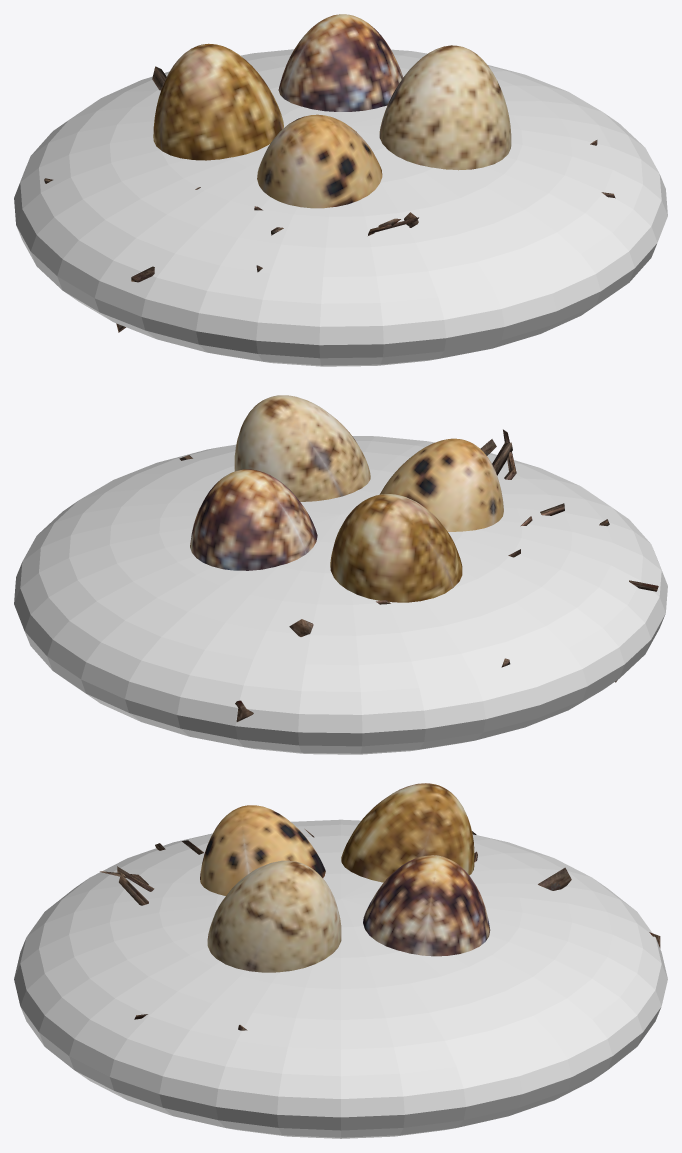
File: EggNest.gltf
The picture shows the model from 3 angles, top to bottom: view 1: azimuth 30°, elevation 25°; view 2: azimuth 150°, elevation 25°; view 3: azimuth 270°, elevation 25°; orthographic projection.
Parts seen in each view (by area): view 1: COL, Eggs, barn.034; view 2: COL, Eggs, barn.034; view 3: COL, Eggs, barn.034.
Boxes of the visible parts, x1,y1,x2,y2 form: COL: (14, 49, 667, 366); Eggs: (153, 14, 511, 208); barn.034: (44, 66, 615, 332); COL: (14, 436, 667, 754); Eggs: (190, 395, 503, 602); barn.034: (179, 429, 658, 721); COL: (14, 819, 667, 1138); Eggs: (200, 783, 490, 972); barn.034: (100, 829, 660, 1030).
Bounding box in the file's own units: 2 × 0.7973 × 2.
2 materials, 2 textured.
